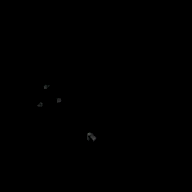v: (33, 82, 61, 108)
